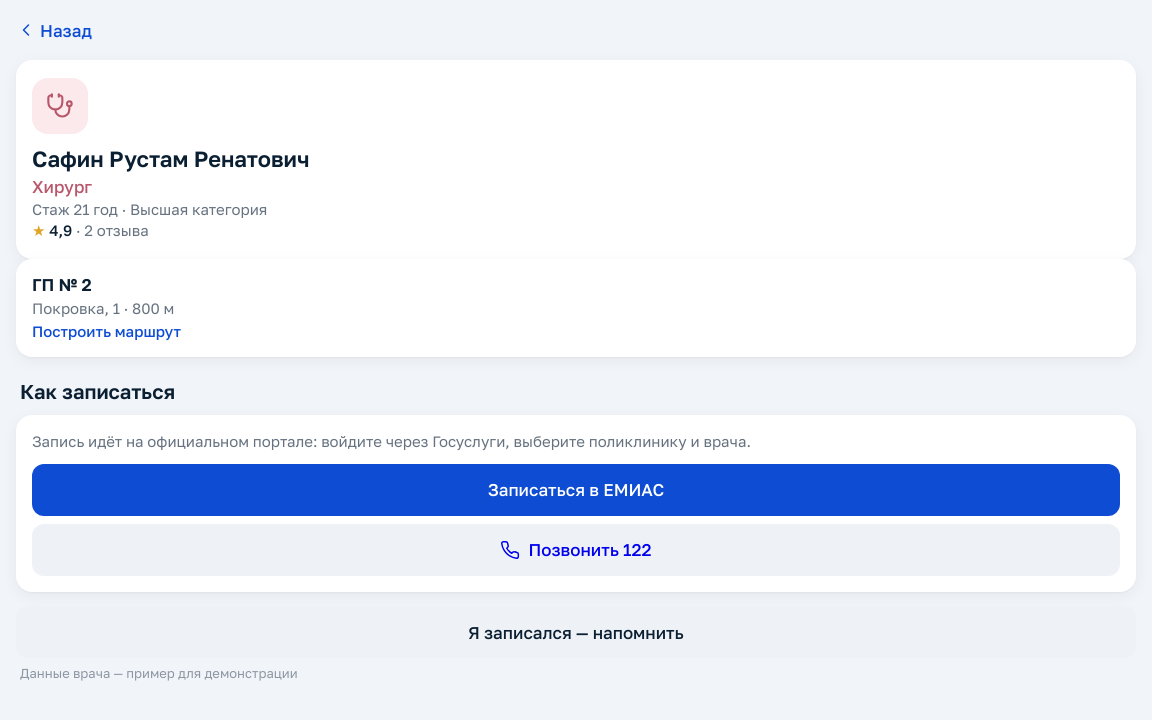
Test: DoctorPage › «Я записался» создаёт напоминание на день приёма
Click the button "Я записался — напомнить" at (576, 632), box [16,606,1136,658]
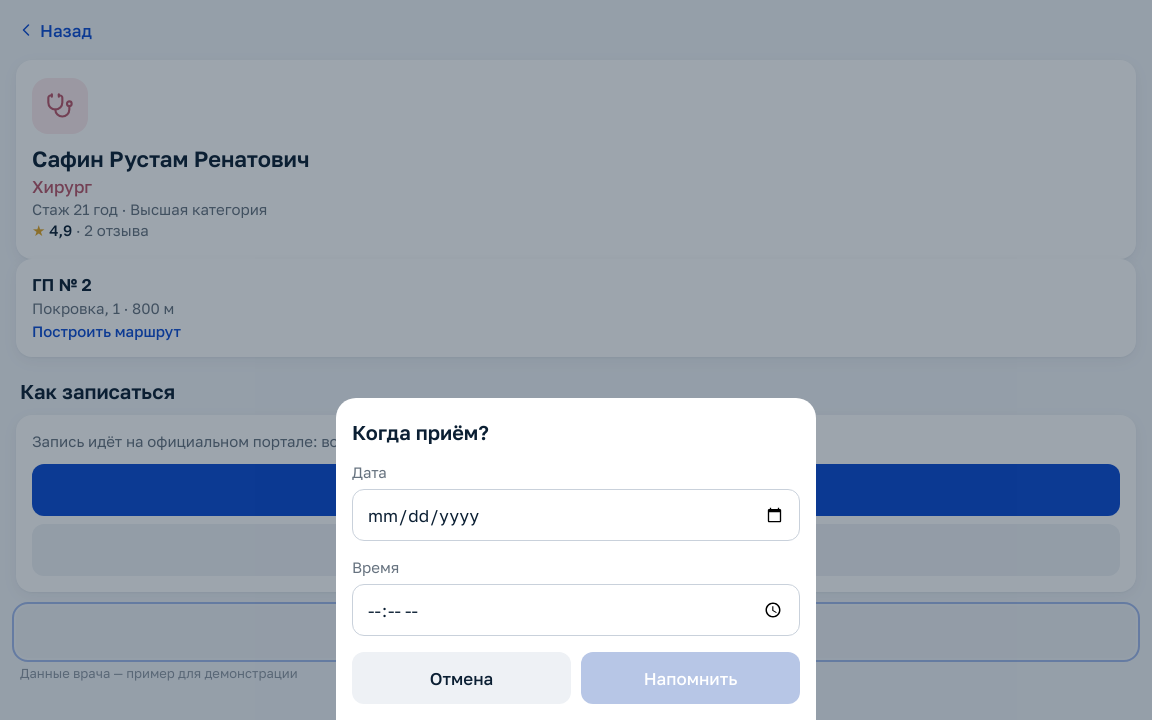
Result: the button "Напомнить" is disabled at [581,652,800,704]
Type "2026-10-02" into the date field labelled "Дата" at (576, 515), box [352,489,800,541]
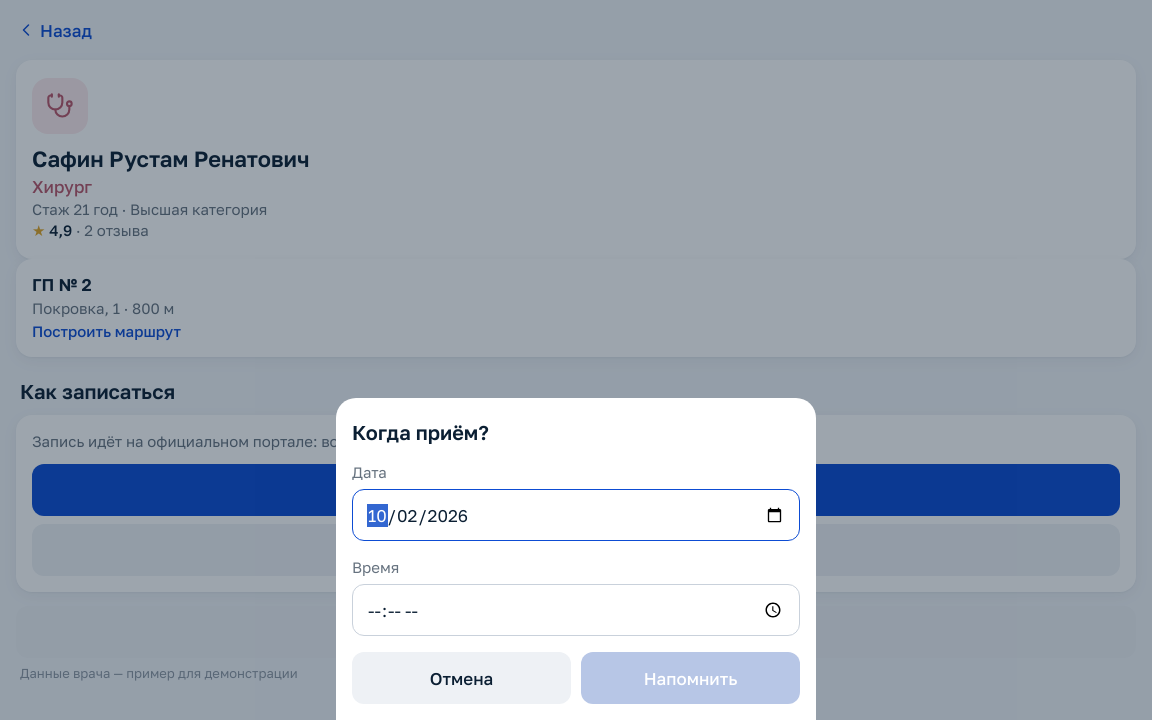
Result: the button "Напомнить" is disabled at [581,652,800,704]
Type "10:30" into the time field labelled "Время" at (576, 610), box [352,584,800,636]
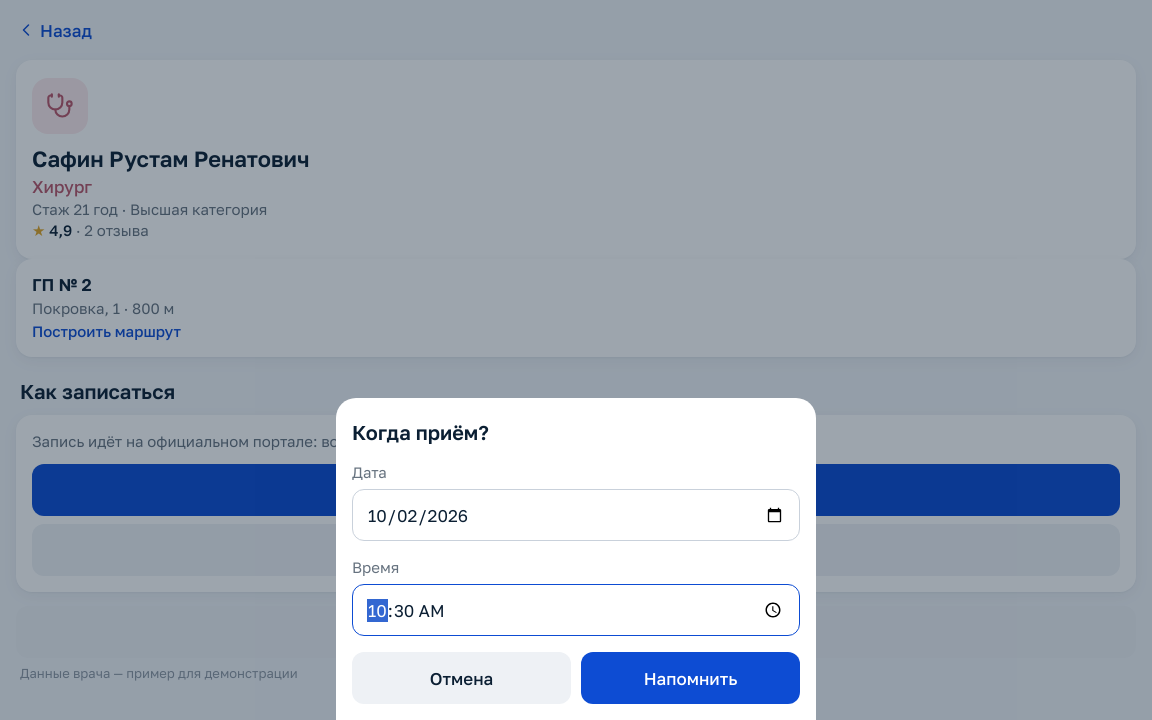
Click the button "Напомнить" at (690, 678), box [581,652,800,704]
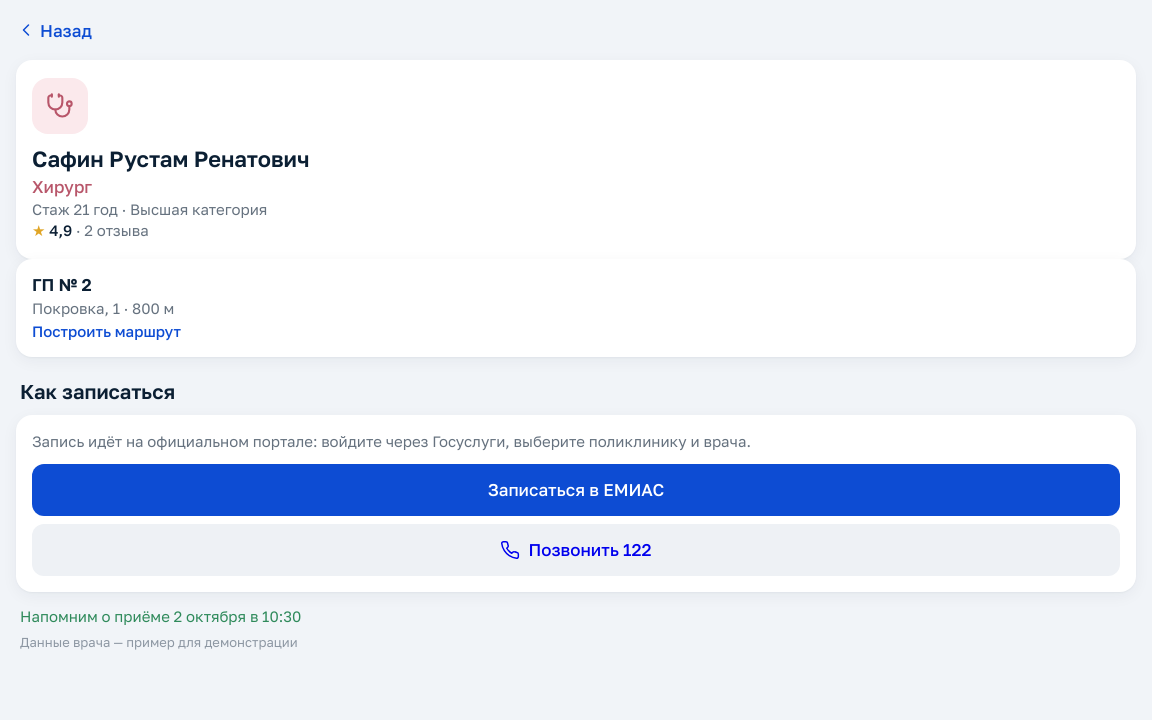
Result: the text "Напомним о приёме 2 октября в 10:30" is shown at [20,607,301,625]
Result: the dialog is gone
